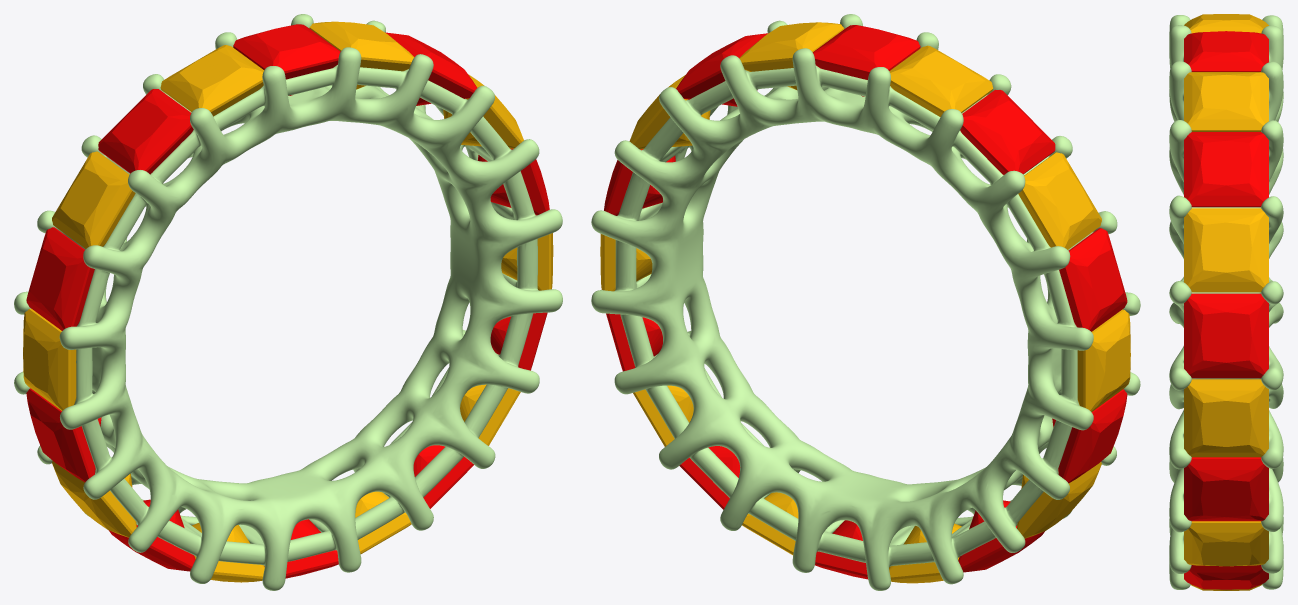
The model's file is TCC-RN-CR-32194-Princess-Eternity-30.glb.
3 views of the same model, side by side, from view 1: azimuth 30°, elevation 25°; view 2: azimuth 150°, elevation 25°; view 3: azimuth 270°, elevation 25° (orthographic).
Parts seen in each view (by area): view 1: Metal03, Diamond Band02.001, Diamond Band01.001, Diamond Band01.002, Diamond Band02, Diamond Band02.002, Diamond Band01, Diamond Band01.003, Diamond Band02.009, Diamond Band02.003, Diamond Band01.009, Diamond Band01.004 (+9 smaller); view 2: Metal03, Diamond Band02.001, Diamond Band01.001, Diamond Band01.002, Diamond Band02, Diamond Band02.002, Diamond Band01, Diamond Band01.003, Diamond Band02.009, Diamond Band02.003, Diamond Band01.009, Diamond Band01.004 (+9 smaller); view 3: Metal03, Diamond Band01.008, Diamond Band02.008, Diamond Band02.007, Diamond Band01.009, Diamond Band01.007, Diamond Band02.009, Diamond Band02.006, Diamond Band01, Diamond Band01.006, Diamond Band02.
Part boxes in pixels (left/top/right/bottom): Metal03: left=14, top=14, right=562, bottom=590; Diamond Band02.001: left=52, top=151, right=135, bottom=248; Diamond Band01.001: left=98, top=89, right=193, bottom=174; Diamond Band01.002: left=26, top=227, right=94, bottom=330; Diamond Band02: left=160, top=45, right=263, bottom=116; Diamond Band02.002: left=23, top=308, right=76, bottom=410; Diamond Band01: left=233, top=24, right=340, bottom=95; Diamond Band01.003: left=26, top=388, right=101, bottom=482; Diamond Band02.009: left=309, top=21, right=414, bottom=89; Diamond Band02.003: left=52, top=461, right=136, bottom=537; Diamond Band01.009: left=385, top=32, right=477, bottom=105; Diamond Band01.004: left=108, top=499, right=195, bottom=571; Metal03: left=591, top=14, right=1140, bottom=590; Diamond Band02.001: left=1018, top=152, right=1101, bottom=249; Diamond Band01.001: left=960, top=89, right=1055, bottom=174; Diamond Band01.002: left=1059, top=228, right=1127, bottom=331; Diamond Band02: left=889, top=45, right=993, bottom=116; Diamond Band02.002: left=1077, top=309, right=1130, bottom=411; Diamond Band01: left=813, top=25, right=920, bottom=96; Diamond Band01.003: left=1052, top=389, right=1127, bottom=483; Diamond Band02.009: left=739, top=22, right=844, bottom=89; Diamond Band02.003: left=1017, top=462, right=1101, bottom=538; Diamond Band01.009: left=676, top=33, right=767, bottom=106; Diamond Band01.004: left=958, top=500, right=1044, bottom=572; Metal03: left=1169, top=15, right=1283, bottom=589; Diamond Band01.008: left=1184, top=293, right=1268, bottom=378; Diamond Band02.008: left=1184, top=208, right=1268, bottom=292; Diamond Band02.007: left=1184, top=379, right=1268, bottom=457; Diamond Band01.009: left=1184, top=132, right=1268, bottom=207; Diamond Band01.007: left=1184, top=457, right=1268, bottom=521; Diamond Band02.009: left=1184, top=72, right=1268, bottom=131; Diamond Band02.006: left=1184, top=521, right=1268, bottom=566; Diamond Band01: left=1184, top=31, right=1268, bottom=71; Diamond Band01.006: left=1184, top=565, right=1268, bottom=589; Diamond Band02: left=1184, top=14, right=1268, bottom=33.
Size of the model in its own units: 24.68 by 24.68 by 4.9.
